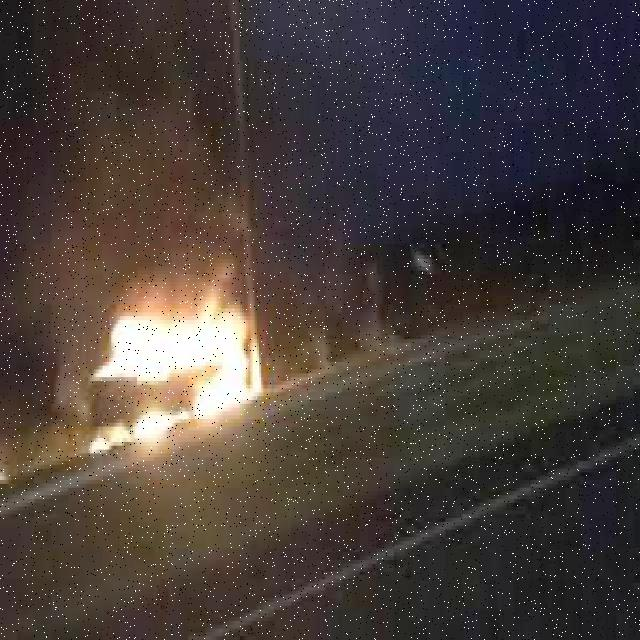fire: (89, 300, 284, 446)
